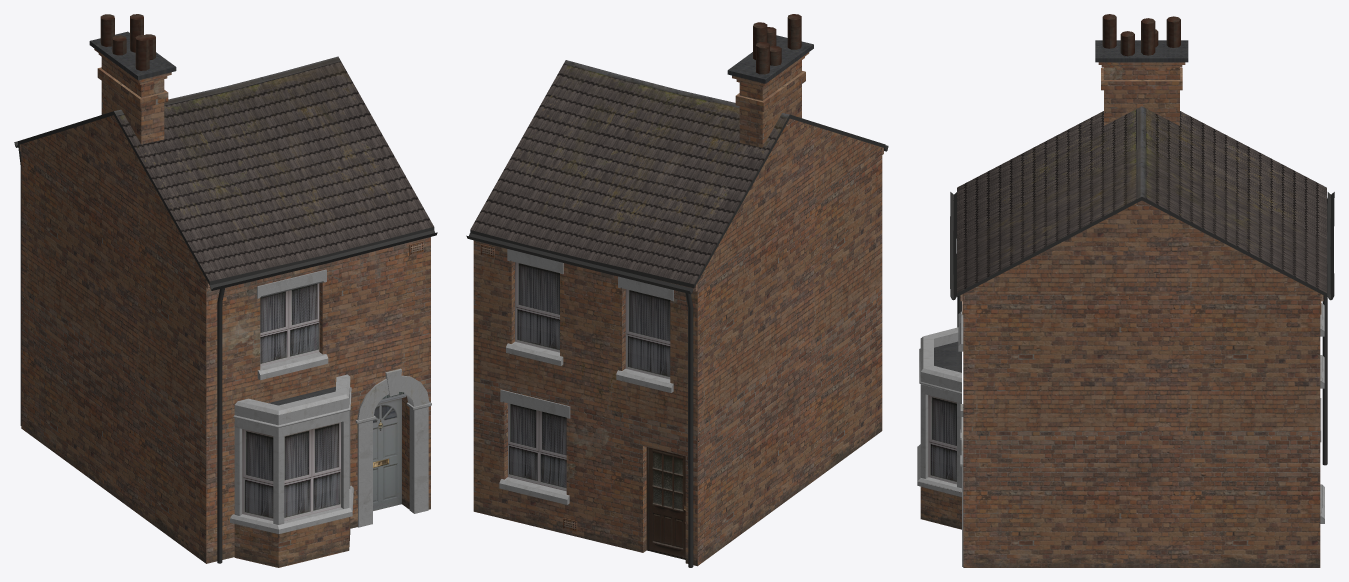
File: ukterracedvictorian8m.FBX
The picture shows the model from 3 angles, left to right: view 1: azimuth 30°, elevation 25°; view 2: azimuth 150°, elevation 25°; view 3: azimuth 270°, elevation 25°; orthographic projection. The views are drawn at different scales.
Parts seen in each view (by area): view 1: Object003; view 2: Object003; view 3: Object003.
Boxes of the visible parts, x1,y1,x2,y2 form: Object003: [14, 14, 437, 567]; Object003: [466, 14, 888, 567]; Object003: [917, 14, 1334, 567].
Size of the model in its own units: 560 by 1122 by 935.
